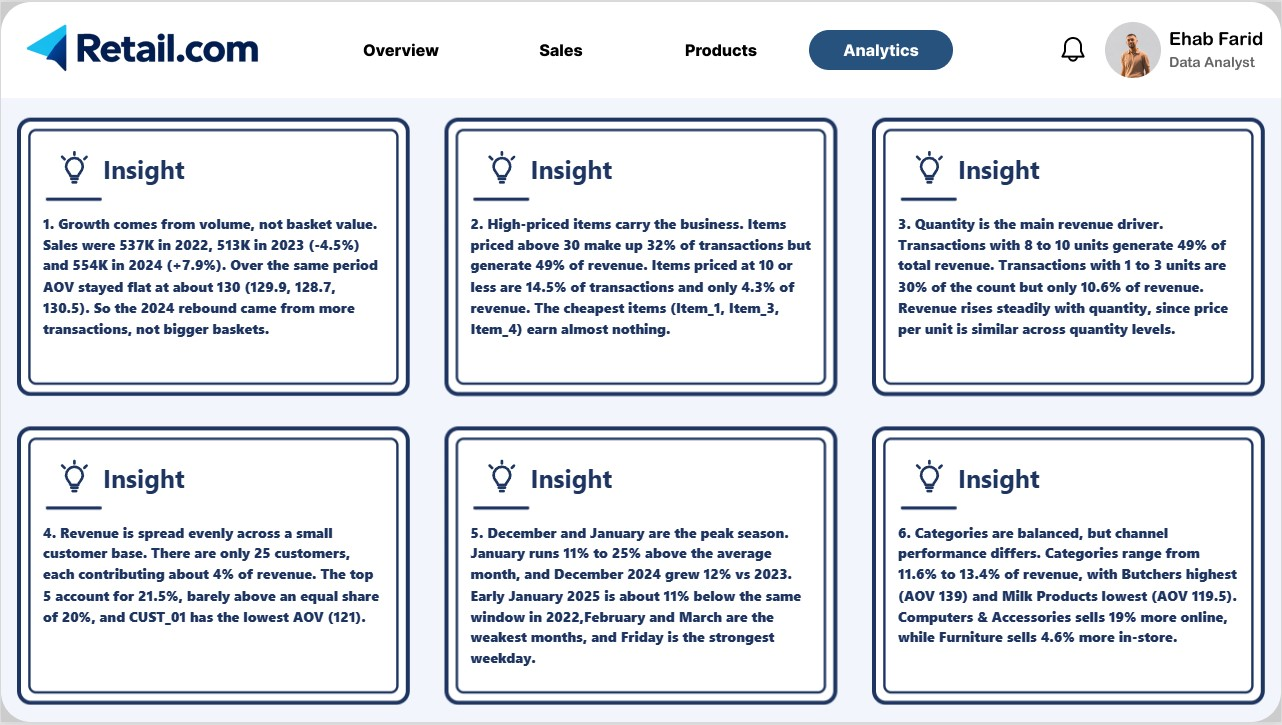

What the dashboard file says about the page in this screenshot:
{"tool":"powerbi","page":{"name":"Analytics","canvas":[1280,720],"ordinal":3},"visuals":[{"type":"htmlContent443BE3AD55E043BF878BED274D3A6855","fields":{"content":["Measures Table.Insight Flip Pr 1 Card 1"]},"box":[0,101.6,424.7,308.4],"z":0},{"type":"htmlContent443BE3AD55E043BF878BED274D3A6855","fields":{"content":["Measures Table.Flip Card 4"]},"box":[0,410,424.7,308.4],"z":1000},{"type":"htmlContent443BE3AD55E043BF878BED274D3A6855","fields":{"content":["Measures Table.Flip Card 2"]},"box":[427.5,101.2,424.7,308.4],"z":2000},{"type":"htmlContent443BE3AD55E043BF878BED274D3A6855","fields":{"content":["Measures Table.Flip Card 3"]},"box":[855,101.2,424.7,308.4],"z":3000},{"type":"htmlContent443BE3AD55E043BF878BED274D3A6855","fields":{"content":["Measures Table.Flip Card 5"]},"box":[427.5,410,424.7,308.4],"z":4000},{"type":"htmlContent443BE3AD55E043BF878BED274D3A6855","fields":{"content":["Measures Table.Flip Card 6"]},"box":[855,410,424.7,308.4],"z":5000},{"type":"actionButton","box":[488.7,27,145.2,41.7],"z":6000},{"type":"actionButton","box":[327.4,27,145.2,41.7],"z":7000},{"type":"actionButton","box":[646.5,27.5,145.2,41.7],"z":8000}]}

Visuals, with their boxes on the page's 1280x720 design canvas (x1, y1, x2, y2). These are canvas units, not pixel positions in the 1282x725 screenshot, which may show the page scaled, cropped or inside an application window:
htmlContent443BE3AD55E043BF878BED274D3A6855 - Measures Table.Insight Flip Pr 1 Card 1: left=0, top=102, right=425, bottom=410
htmlContent443BE3AD55E043BF878BED274D3A6855 - Measures Table.Flip Card 4: left=0, top=410, right=425, bottom=718
htmlContent443BE3AD55E043BF878BED274D3A6855 - Measures Table.Flip Card 2: left=428, top=101, right=852, bottom=410
htmlContent443BE3AD55E043BF878BED274D3A6855 - Measures Table.Flip Card 3: left=855, top=101, right=1280, bottom=410
htmlContent443BE3AD55E043BF878BED274D3A6855 - Measures Table.Flip Card 5: left=428, top=410, right=852, bottom=718
htmlContent443BE3AD55E043BF878BED274D3A6855 - Measures Table.Flip Card 6: left=855, top=410, right=1280, bottom=718
actionButton: left=489, top=27, right=634, bottom=69
actionButton: left=327, top=27, right=473, bottom=69
actionButton: left=646, top=28, right=792, bottom=69
